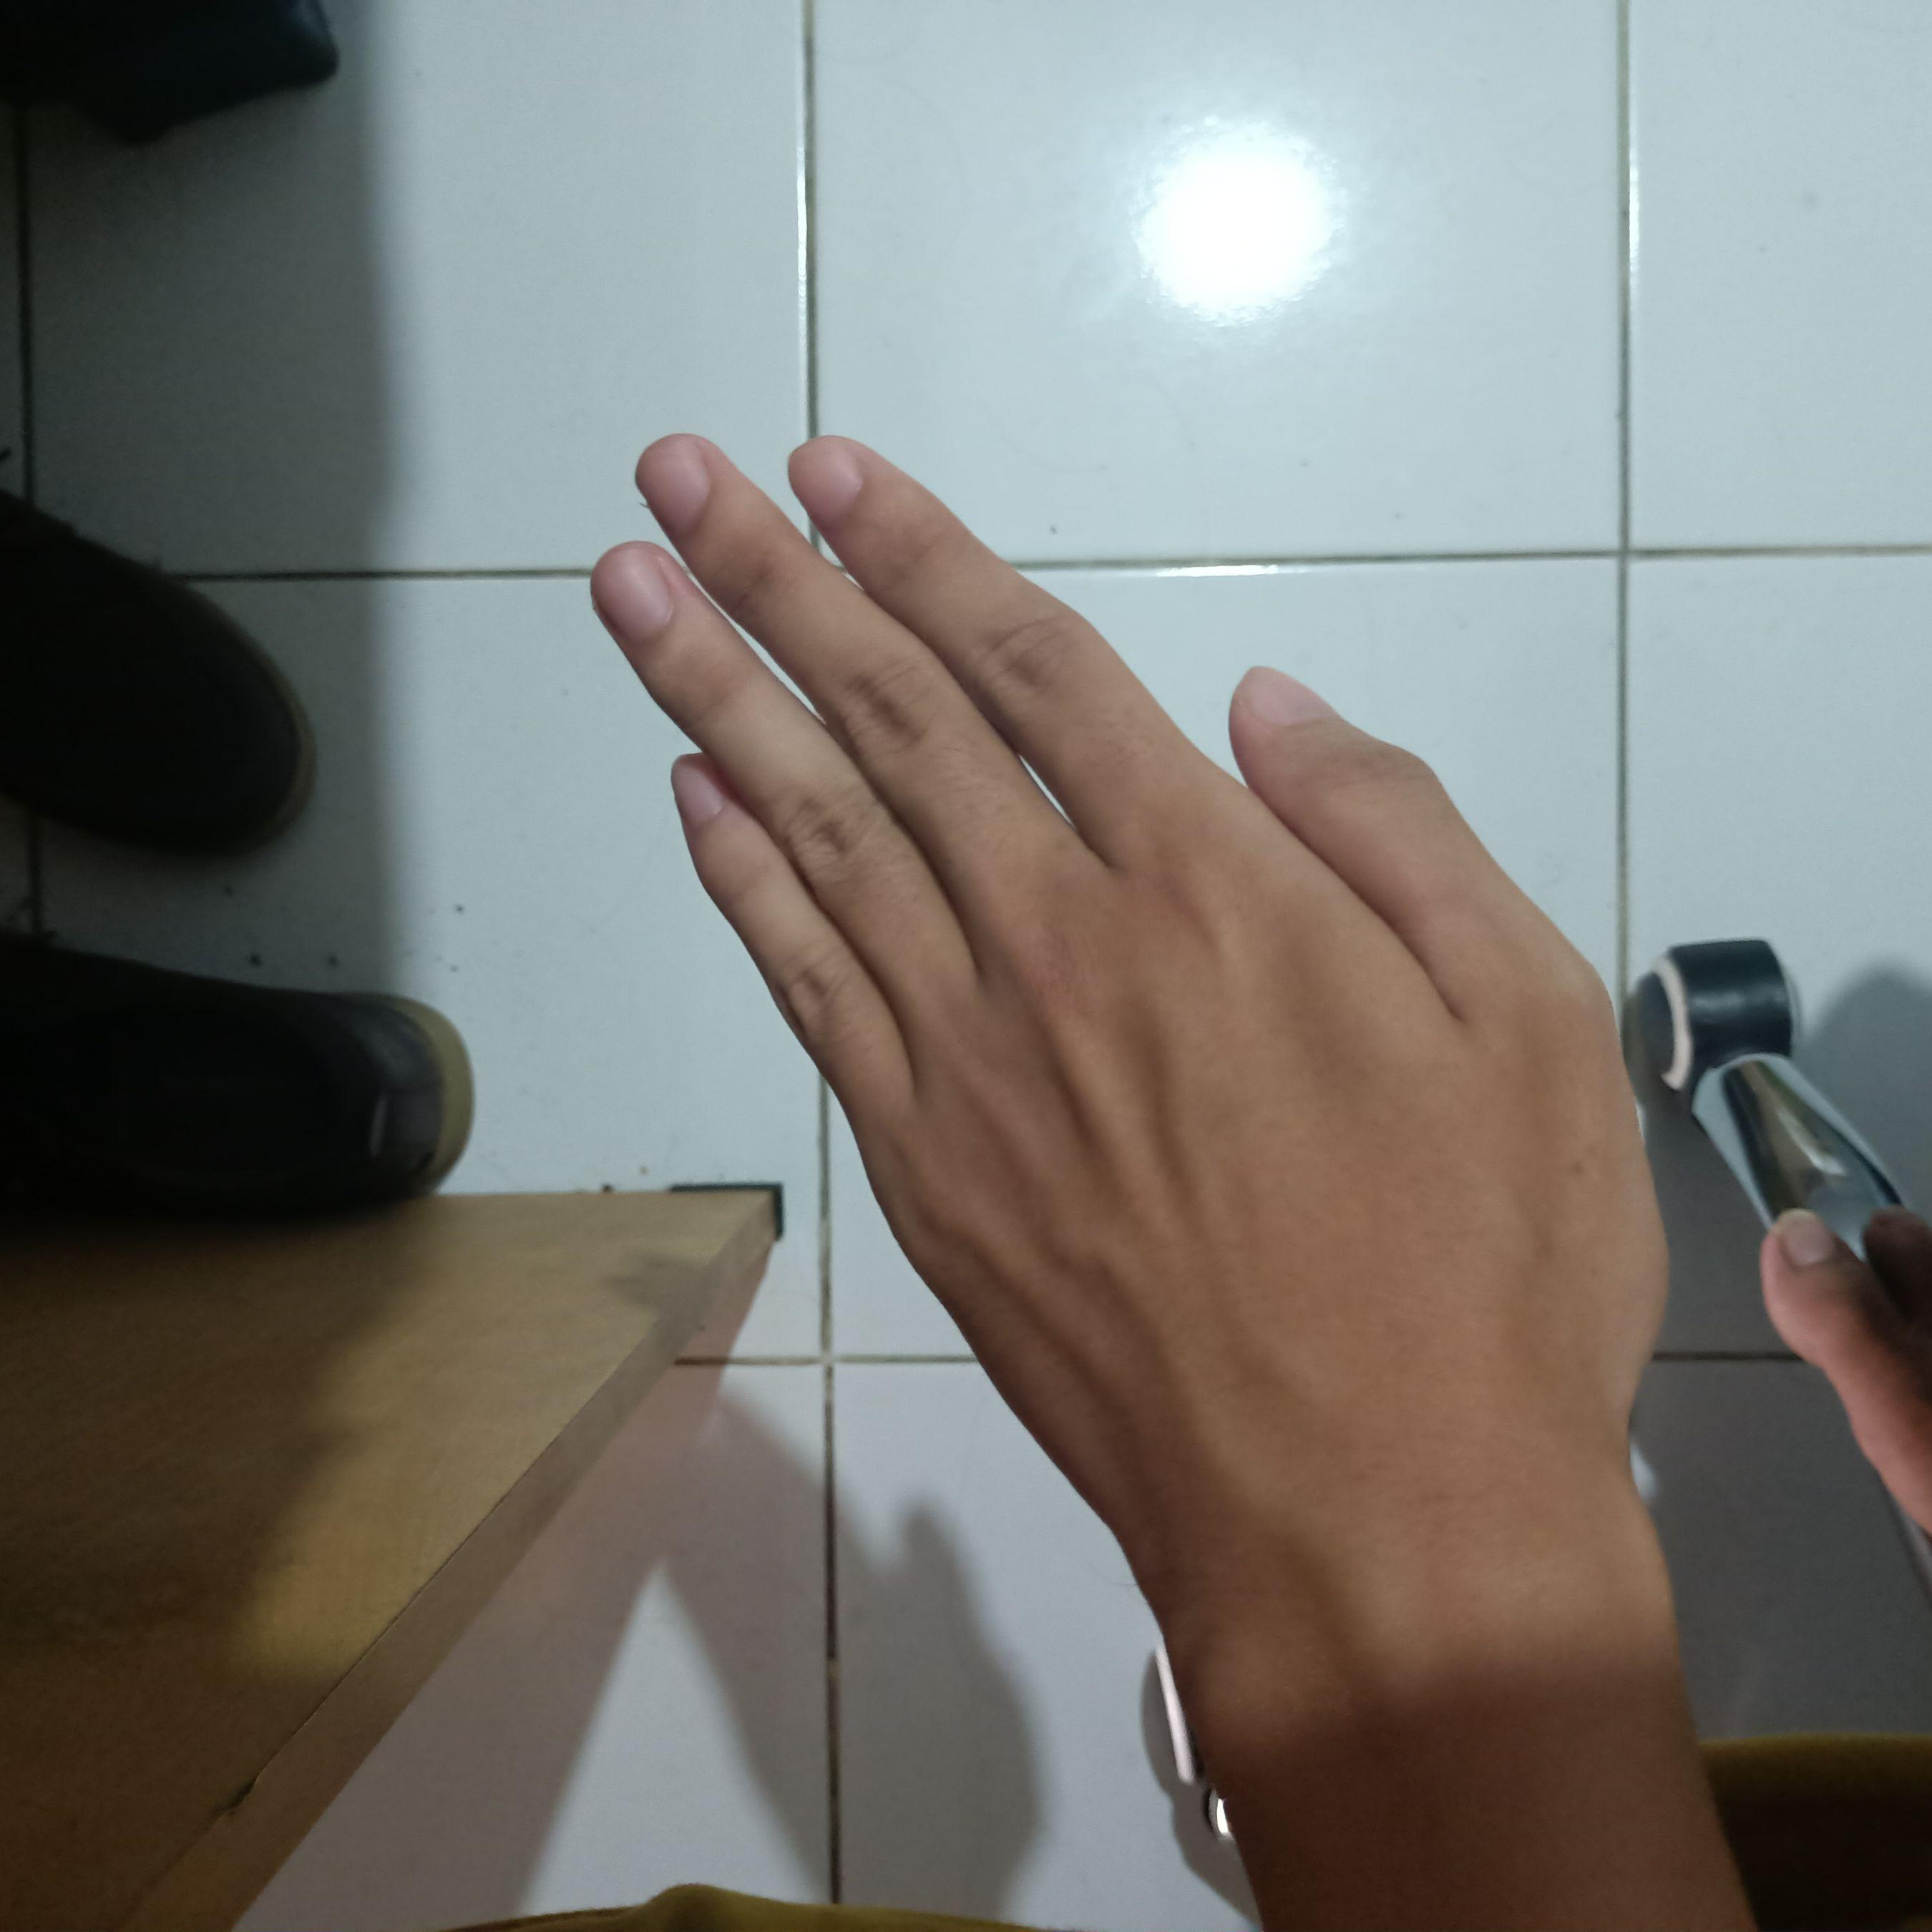paper: (568, 403, 1698, 1748)
